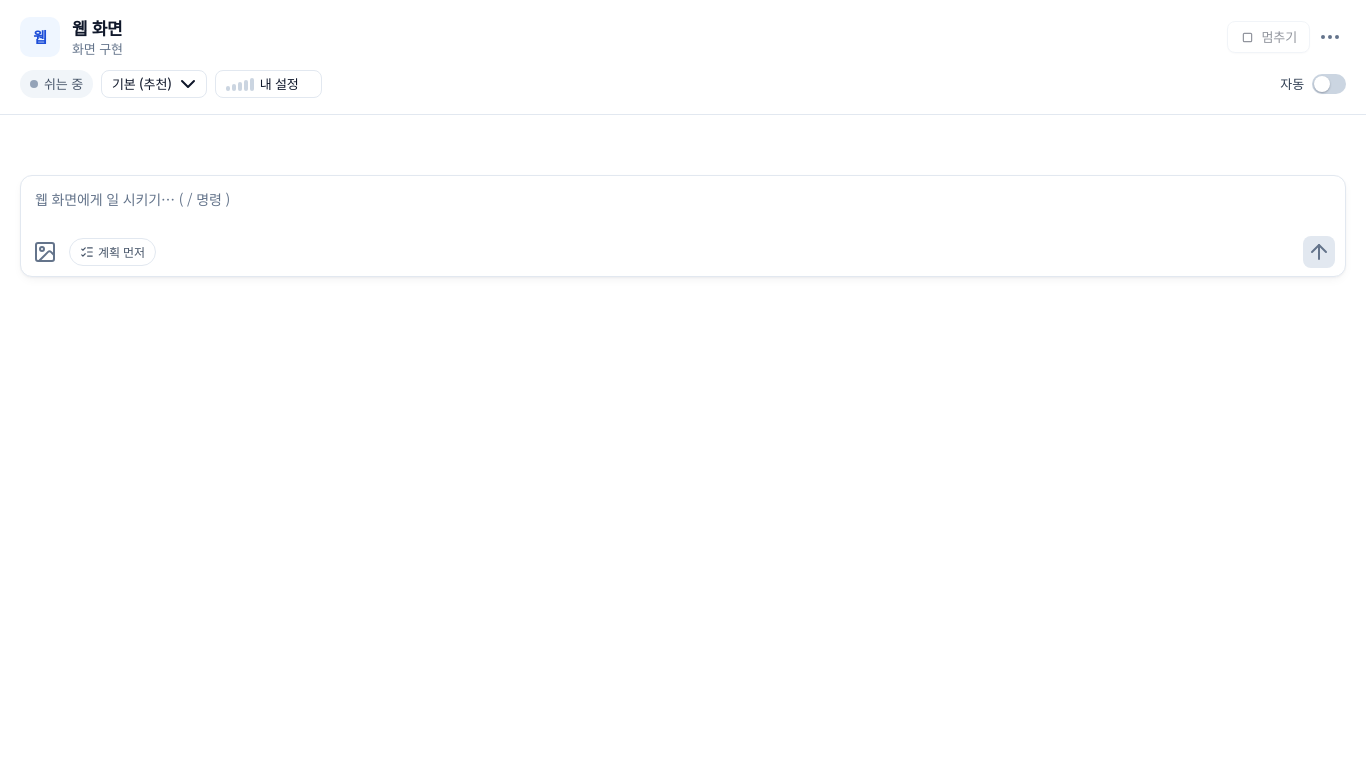
Test: AgentMenu › 지우기에 실패하면 대화상자에 엔진 문구
Click the button named "메뉴" at (1330, 37), box [1314,21,1346,53]
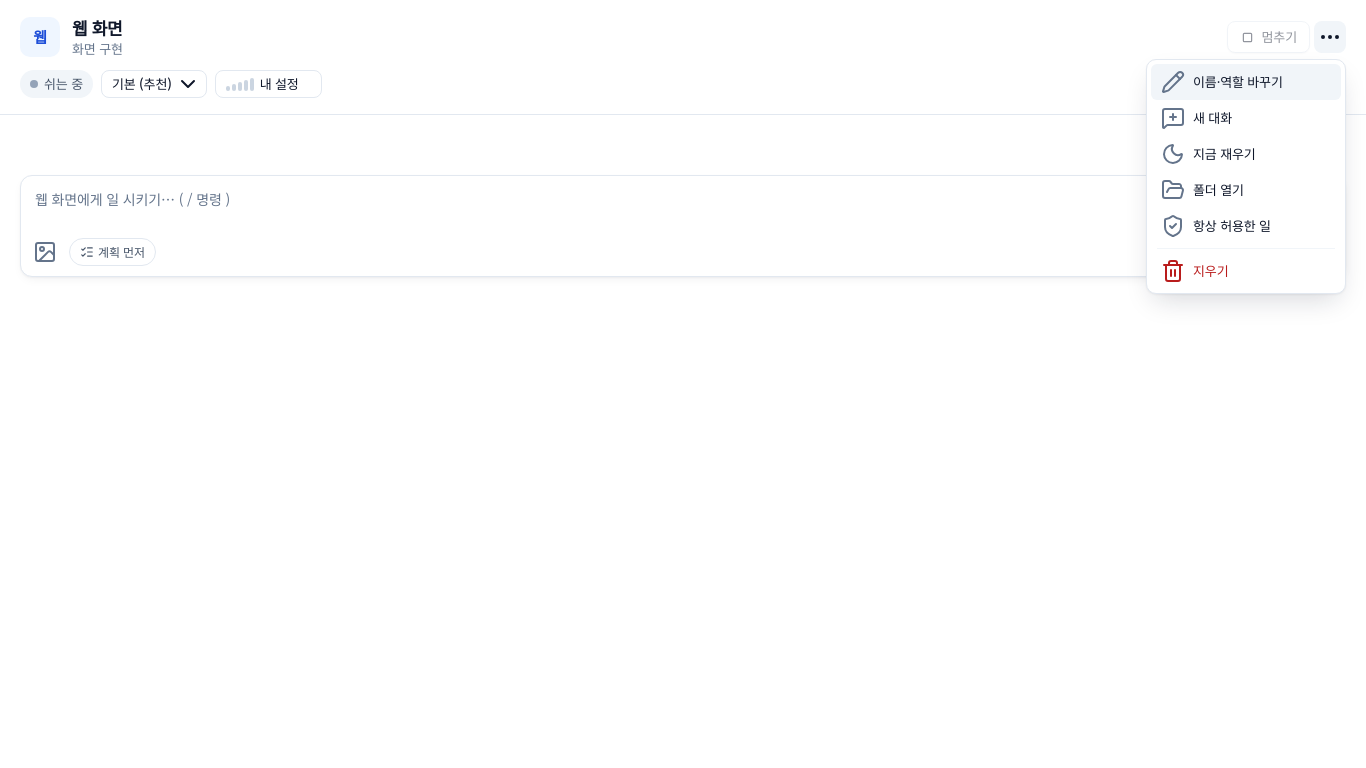
Click the menu item "지우기" at (1246, 271), box [1151,253,1341,289]
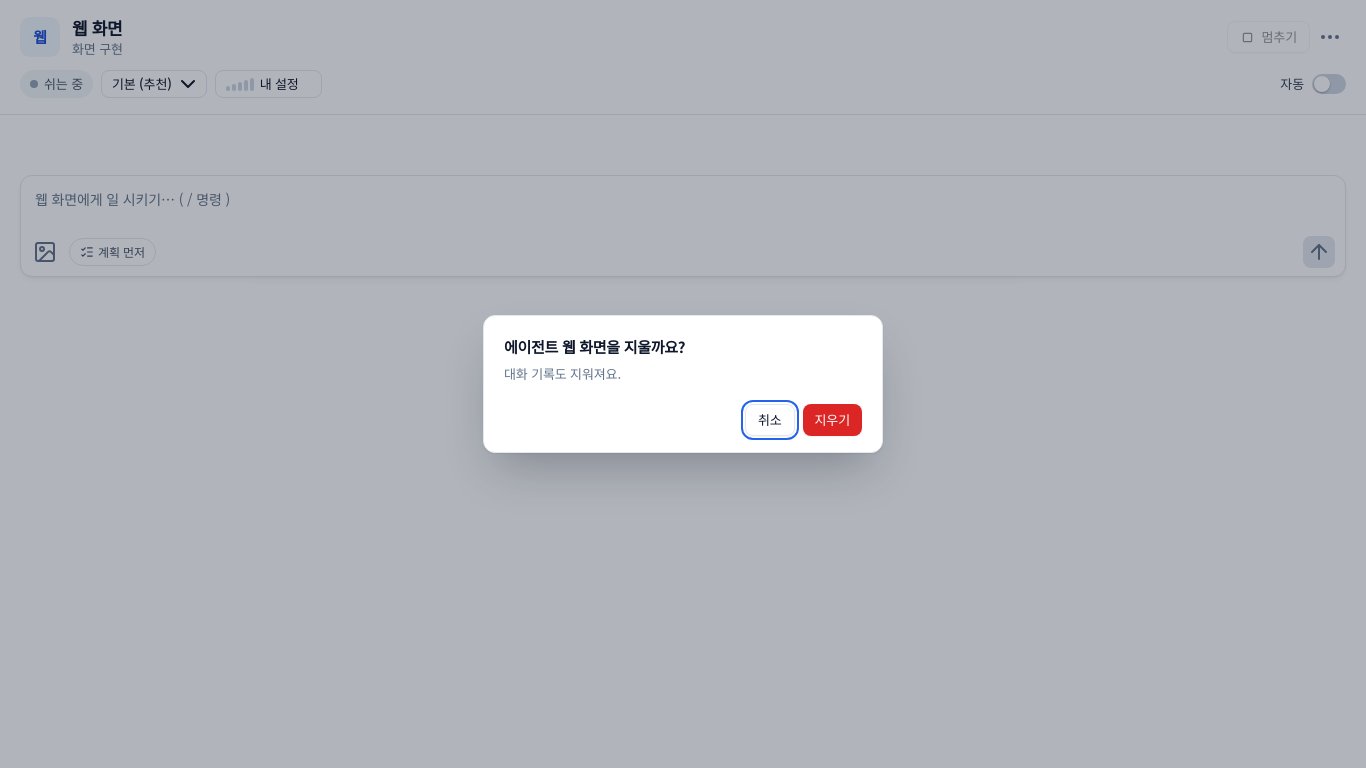
Click the button "지우기" at (832, 420), box [802,404,862,436]
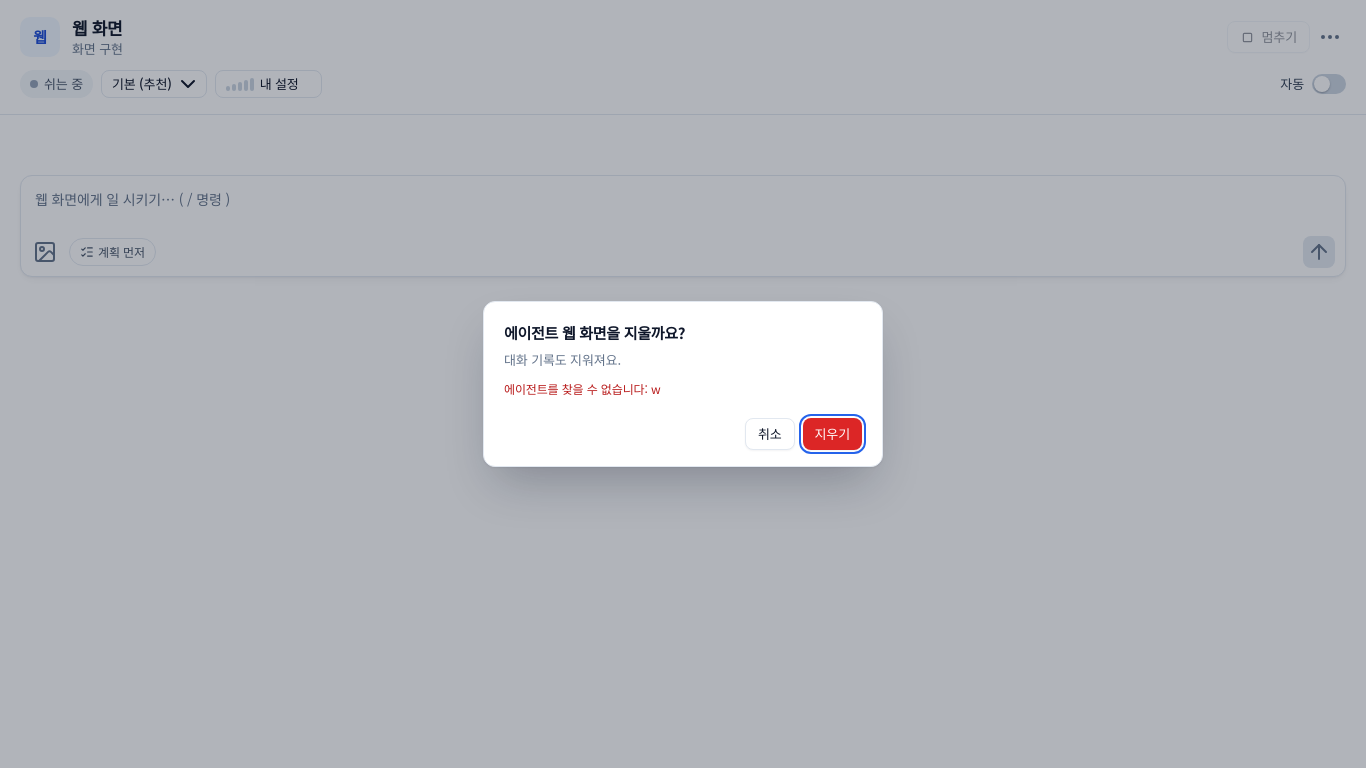
Now the text "에이전트를 찾을 수 없습니다: w" is shown, box [504,380,660,397]
